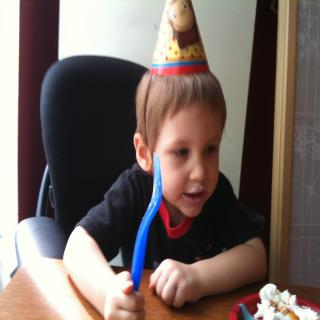Cake: (254, 282, 318, 320)
Ice cream: (250, 284, 320, 320)
